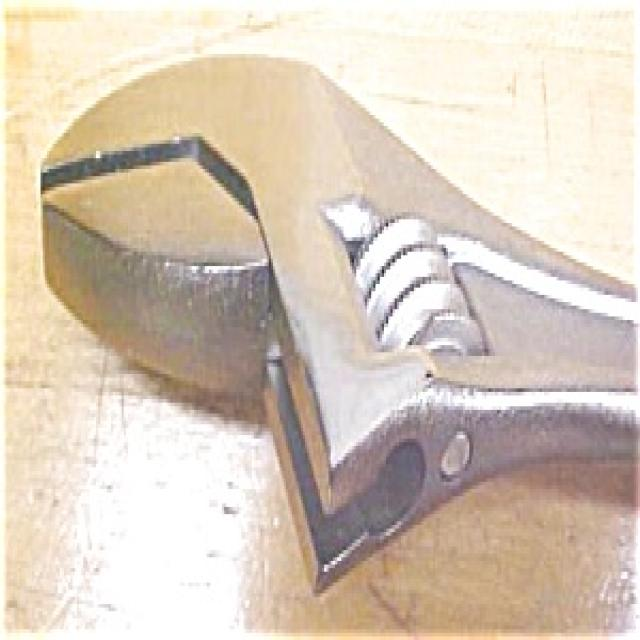wrench: (34, 54, 640, 604)
